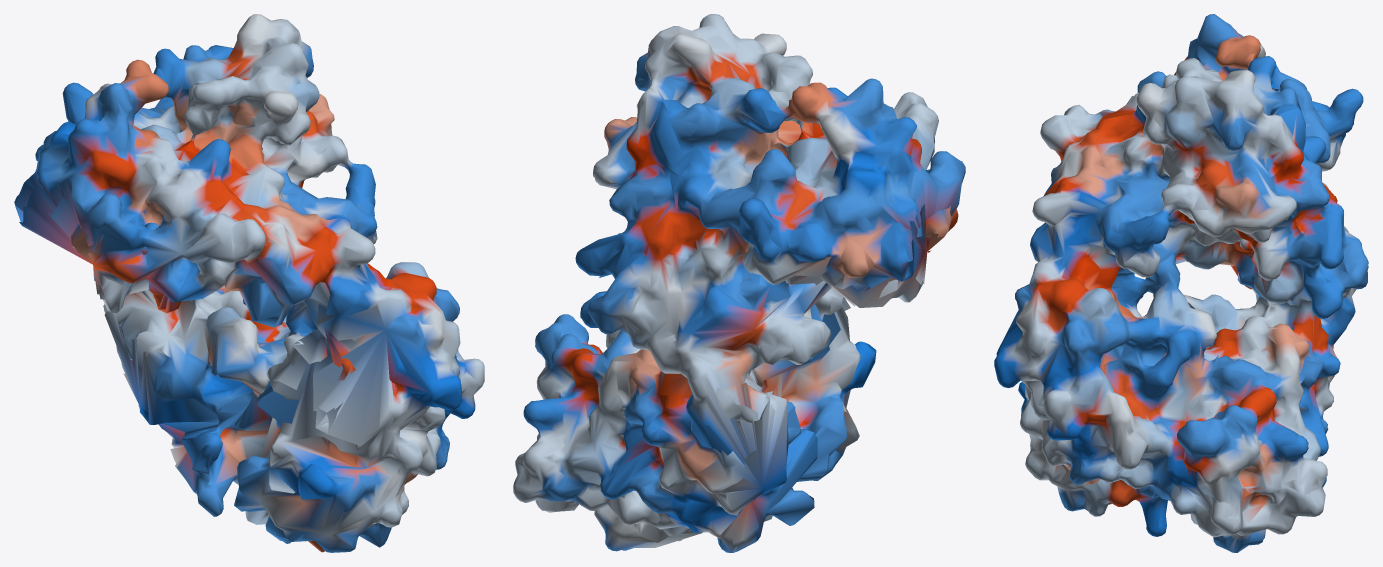
File: Fab3SBone1Skin1Reduced.fbx
3 views of the same model, side by side, from view 1: azimuth 30°, elevation 25°; view 2: azimuth 150°, elevation 25°; view 3: azimuth 270°, elevation 25° (orthographic). The views are drawn at different scales.
Visible parts, largest first — view 1: Shape_IndexedTriangleSet; view 2: Shape_IndexedTriangleSet; view 3: Shape_IndexedTriangleSet.
Part boxes in pixels (left/top/right/bottom): Shape_IndexedTriangleSet: left=14, top=14, right=484, bottom=552; Shape_IndexedTriangleSet: left=513, top=14, right=965, bottom=552; Shape_IndexedTriangleSet: left=994, top=14, right=1368, bottom=552.
Bounding box in the file's own units: 6005 × 5564 × 7463.
